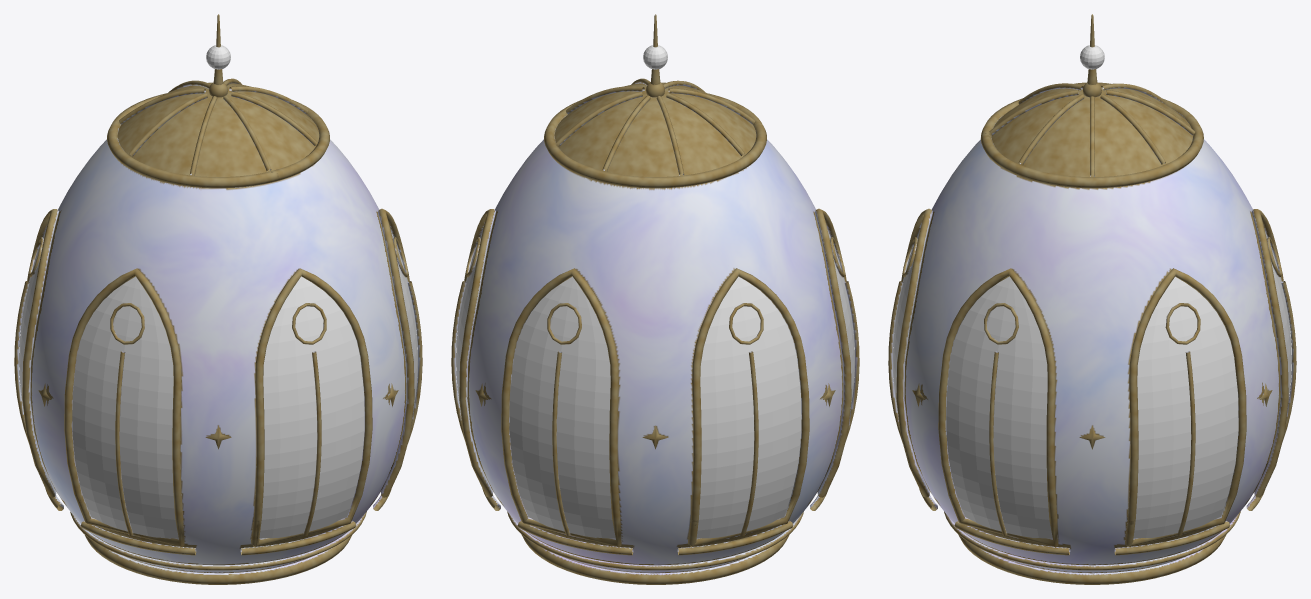
File: AstralSanctumEgg.fbx
3 views of the same model, side by side, from view 1: azimuth 30°, elevation 25°; view 2: azimuth 150°, elevation 25°; view 3: azimuth 270°, elevation 25° (orthographic).
Visible parts, largest first — view 1: AstralSanctumEgg_Body, AstralSanctumEgg_Glow_643cff; view 2: AstralSanctumEgg_Body, AstralSanctumEgg_Glow_643cff; view 3: AstralSanctumEgg_Body, AstralSanctumEgg_Glow_643cff.
Part boxes in pixels (box(x1,y1,x2,y2)): AstralSanctumEgg_Body: box(14, 14, 422, 584); AstralSanctumEgg_Glow_643cff: box(19, 45, 417, 538); AstralSanctumEgg_Body: box(451, 14, 859, 584); AstralSanctumEgg_Glow_643cff: box(456, 45, 854, 538); AstralSanctumEgg_Body: box(888, 14, 1296, 584); AstralSanctumEgg_Glow_643cff: box(892, 45, 1291, 538).
Bounding box in the file's own units: 2.13 × 3.17 × 2.12.
2 materials, 1 textured.
